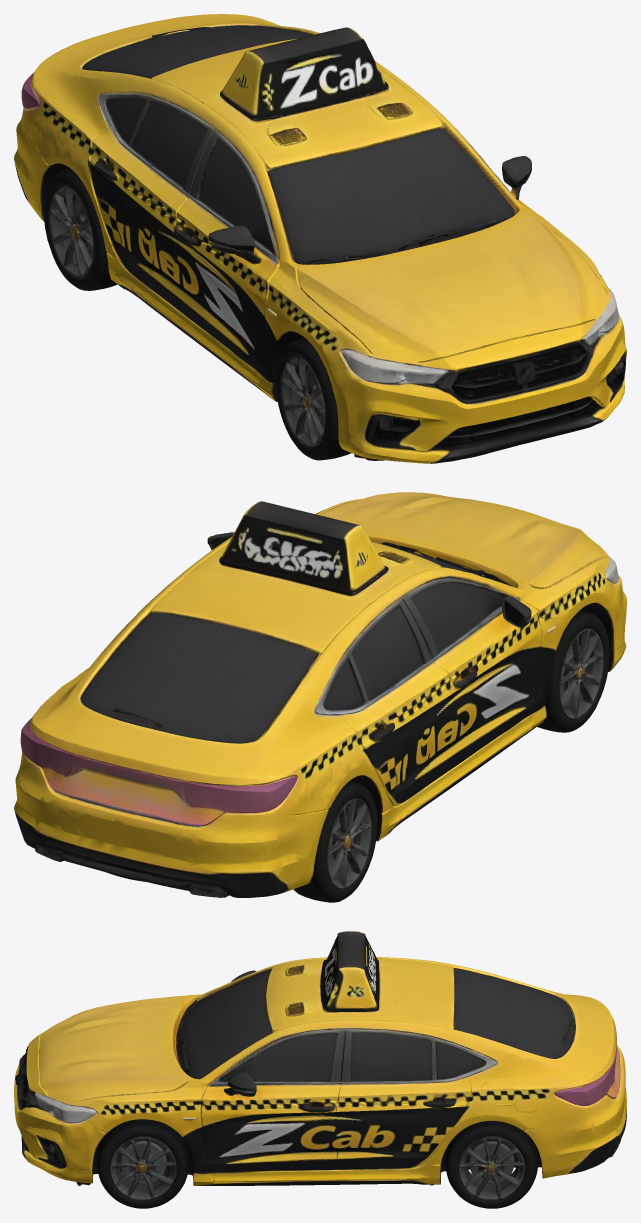
File: z-cab-v178.glb
3 views of the same model, one above another, from view 1: azimuth 30°, elevation 25°; view 2: azimuth 150°, elevation 25°; view 3: azimuth 270°, elevation 25° (orthographic). The views are drawn at different scales.
Parts seen in each view (by area): view 1: model; view 2: model; view 3: model.
Part boxes in pixels (x1,y1,x2,y2): model: [14, 14, 626, 463]; model: [14, 492, 626, 902]; model: [14, 931, 626, 1208].
Size of the model in its own units: 2.32 by 1.95 by 5.12.
1 material, 1 textured.
